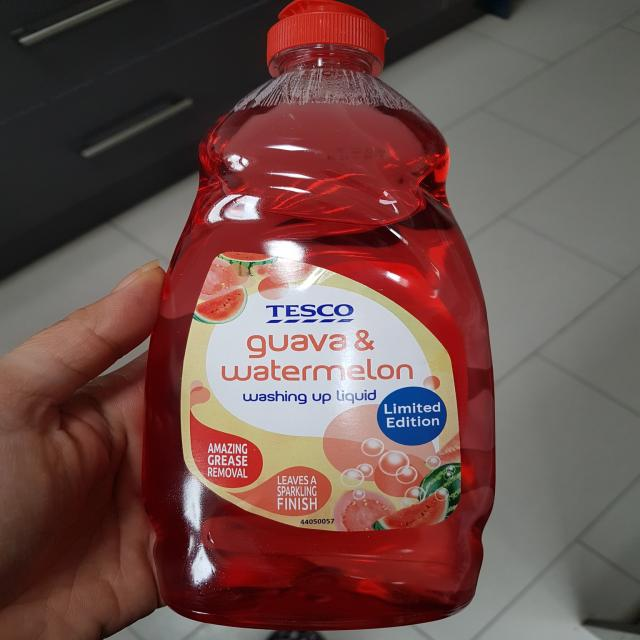plastic: (147, 2, 493, 630)
